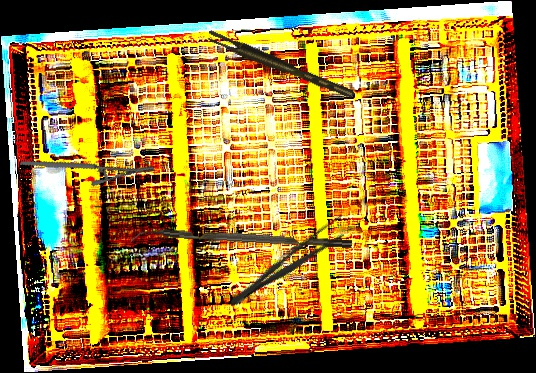Chopper: (131, 224, 352, 260)
Dressing Forceps: (223, 211, 354, 314)
Needle Holder: (19, 118, 157, 213)
Tissue Forceps: (205, 25, 355, 106)
